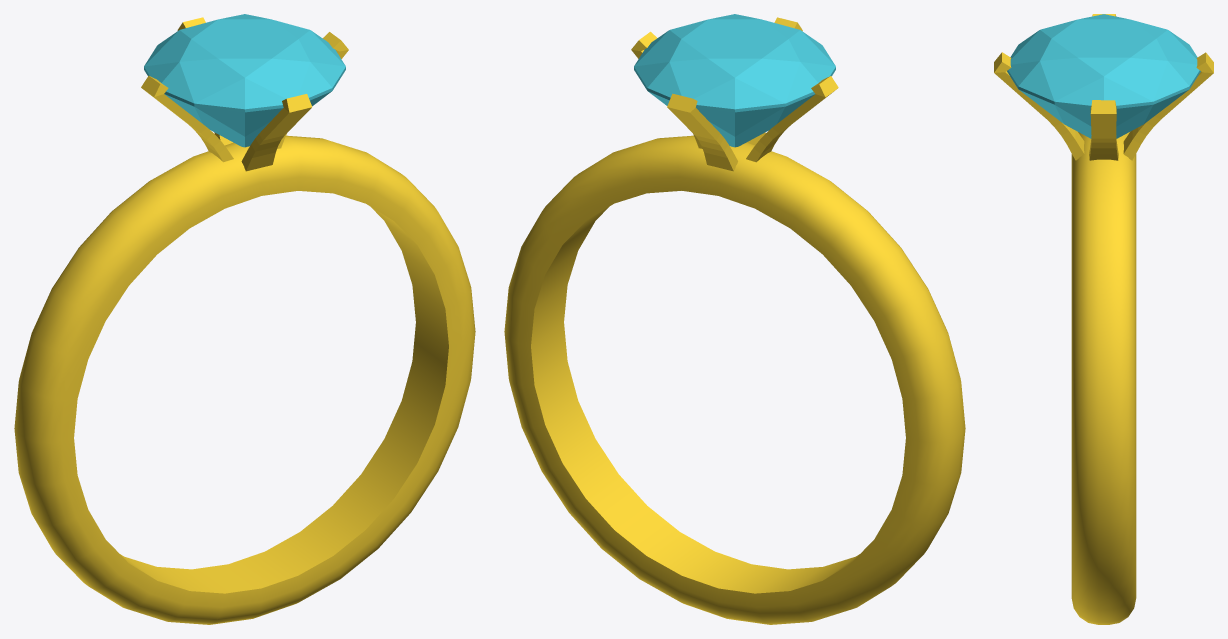
Rendered from ring.glb.
The picture shows the model from 3 angles, left to right: view 1: azimuth 30°, elevation 25°; view 2: azimuth 150°, elevation 25°; view 3: azimuth 270°, elevation 25°; orthographic projection. The views are drawn at different scales.
Parts seen in each view (by area): view 1: Circle.1817; view 2: Circle.1817; view 3: Circle.1817.
Boxes of the visible parts, <box> form: Circle.1817: <box>14,14,475,624</box>; Circle.1817: <box>504,14,965,624</box>; Circle.1817: <box>994,14,1213,624</box>.
Bounding box in the file's own units: 1.83 × 2.24 × 0.7931.
Materials: 1 (1 with a texture image).
